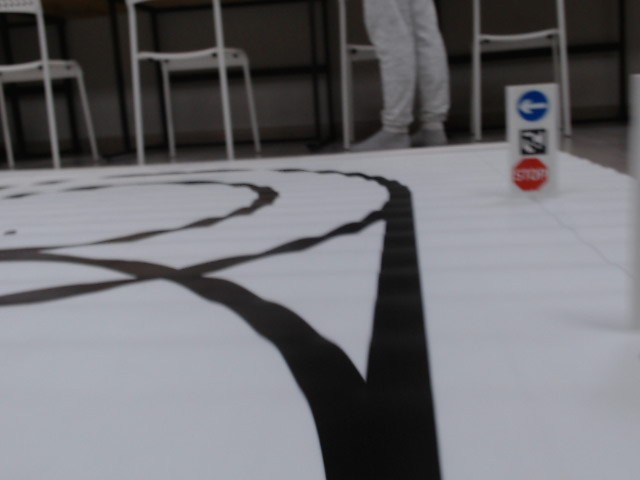Stop: (511, 158, 552, 191)
